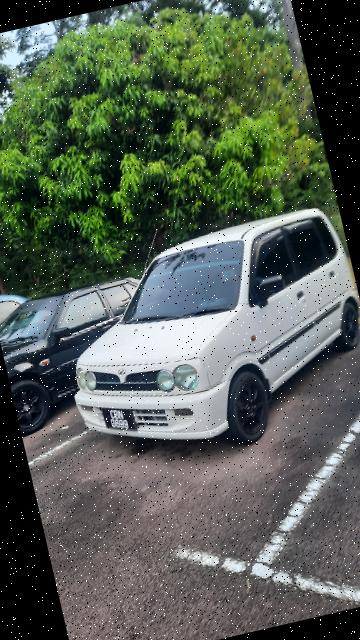License_Plate: (98, 399, 140, 440)
car: (39, 200, 360, 484)
